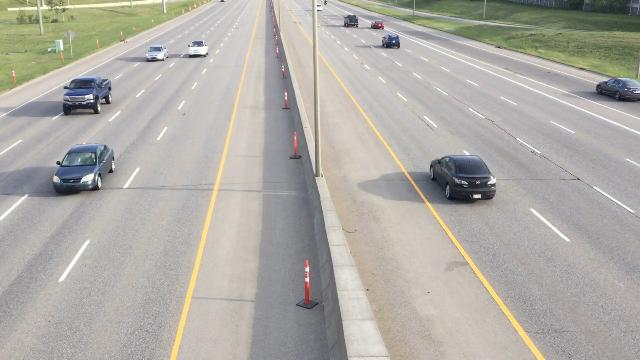car: (429, 152, 500, 207), (54, 144, 117, 193), (62, 75, 115, 116), (597, 74, 640, 105), (146, 44, 169, 63), (188, 39, 210, 58), (381, 34, 402, 50), (371, 18, 386, 31), (317, 4, 322, 11)
motorcycle: (323, 0, 328, 6)
pickup-truck: (342, 13, 361, 28)
